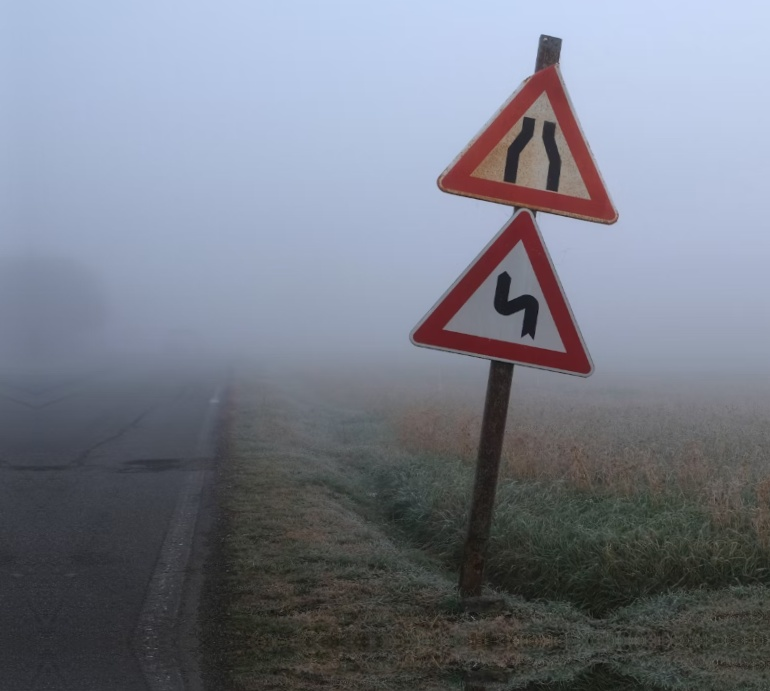Curve Road: (409, 215, 601, 388)
Narrow road ahead: (431, 58, 631, 219)
